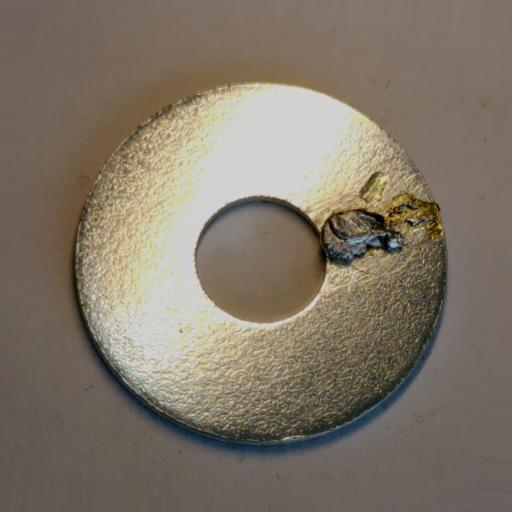excess_material: (320, 171, 437, 260)
